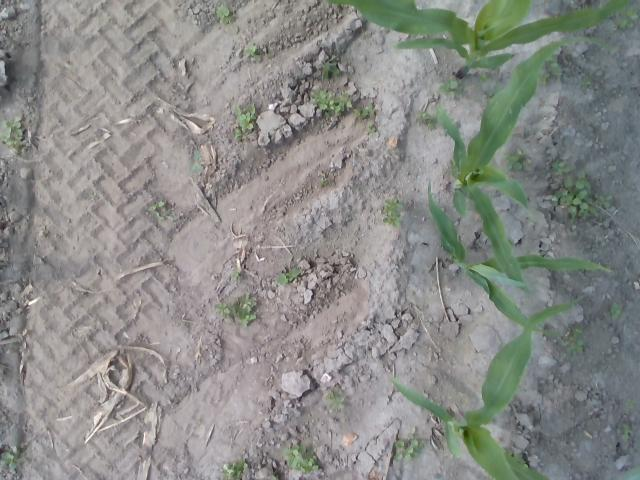Maize: (433, 35, 622, 295), (386, 296, 640, 480), (425, 178, 617, 343), (319, 0, 630, 79)
Weeds: (549, 171, 598, 224), (215, 292, 257, 326), (309, 88, 352, 118), (283, 442, 320, 473), (393, 425, 425, 460), (232, 104, 256, 139), (0, 116, 23, 150), (560, 326, 586, 356), (382, 198, 406, 229), (1, 446, 28, 470), (220, 458, 247, 480), (503, 148, 531, 169), (504, 447, 529, 469), (438, 79, 464, 100), (413, 109, 438, 130), (325, 387, 346, 411), (322, 54, 341, 80), (544, 52, 563, 76), (148, 200, 170, 220), (276, 267, 300, 285), (188, 149, 204, 172), (616, 4, 638, 20), (351, 104, 375, 118), (592, 192, 612, 208), (482, 85, 502, 101), (242, 44, 260, 61), (550, 160, 571, 174), (216, 5, 230, 25), (618, 423, 632, 441), (613, 18, 634, 30), (604, 302, 618, 318), (538, 72, 550, 84), (364, 121, 376, 133), (624, 398, 638, 408), (230, 267, 240, 281), (476, 73, 488, 84), (319, 174, 328, 188), (582, 75, 592, 86), (90, 193, 100, 201), (269, 474, 279, 480)
